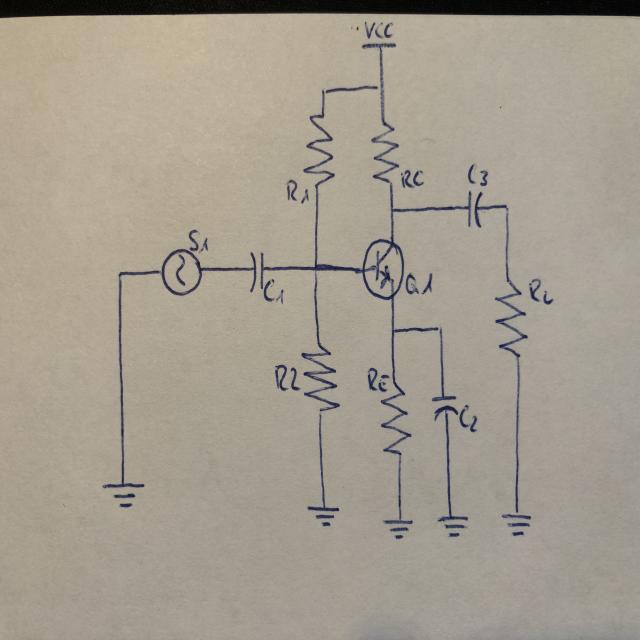capacitor: (464, 185, 486, 232), (248, 248, 267, 294), (430, 393, 460, 422)
ground: (99, 480, 149, 513), (501, 509, 532, 541), (306, 503, 340, 530), (436, 513, 470, 539), (382, 516, 415, 542)
junction: (114, 266, 130, 288), (308, 258, 324, 280), (318, 82, 334, 104), (373, 78, 389, 100), (498, 196, 514, 217), (387, 321, 403, 342), (432, 319, 448, 340), (384, 202, 399, 222)
resistor: (300, 340, 344, 421), (494, 274, 528, 359), (379, 375, 412, 461), (303, 108, 336, 194), (369, 115, 402, 188)
source: (159, 247, 204, 299), (360, 40, 399, 65)
text: (272, 362, 300, 393), (403, 269, 434, 296), (527, 276, 553, 307), (283, 179, 311, 206), (362, 19, 396, 41), (263, 278, 287, 308), (459, 401, 480, 435), (464, 161, 492, 186), (400, 166, 426, 192), (366, 366, 389, 395), (187, 225, 203, 249)
transistor: (361, 237, 405, 300)
